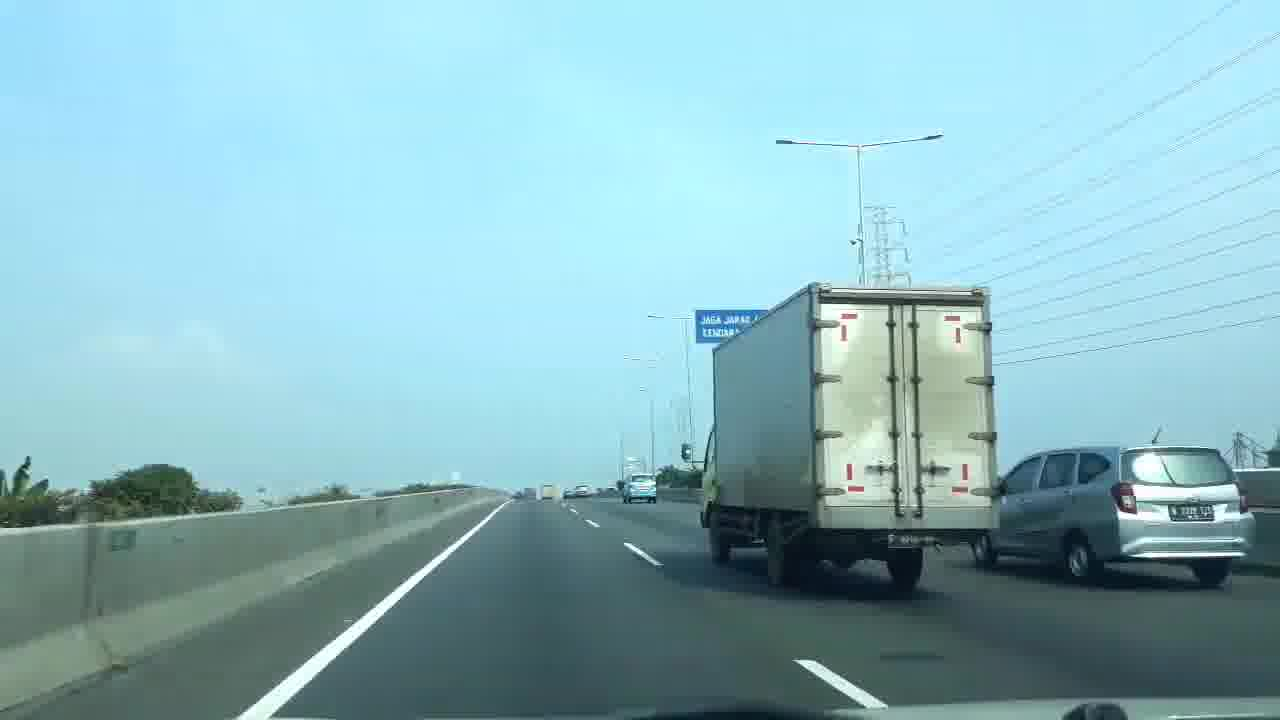plate_positive: (886, 533, 937, 549), (1169, 504, 1214, 521)
